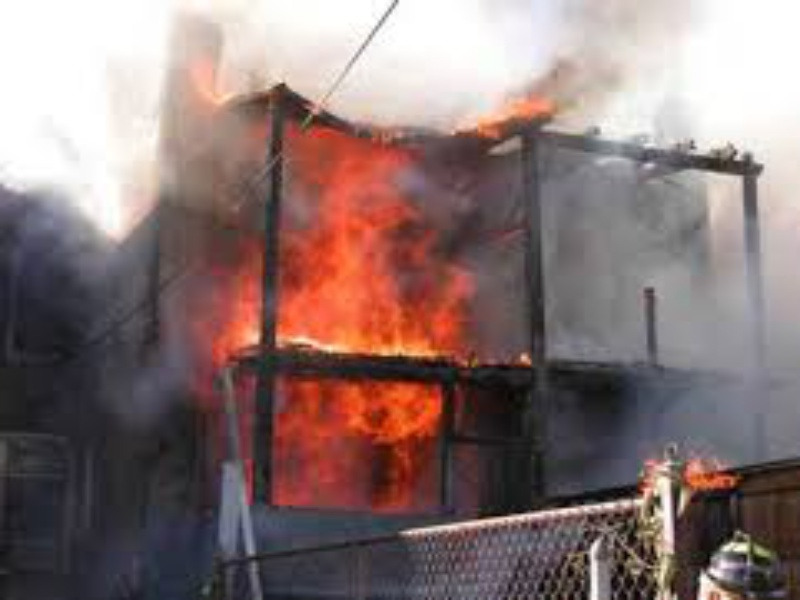fire: (220, 108, 467, 501), (490, 91, 561, 114)
